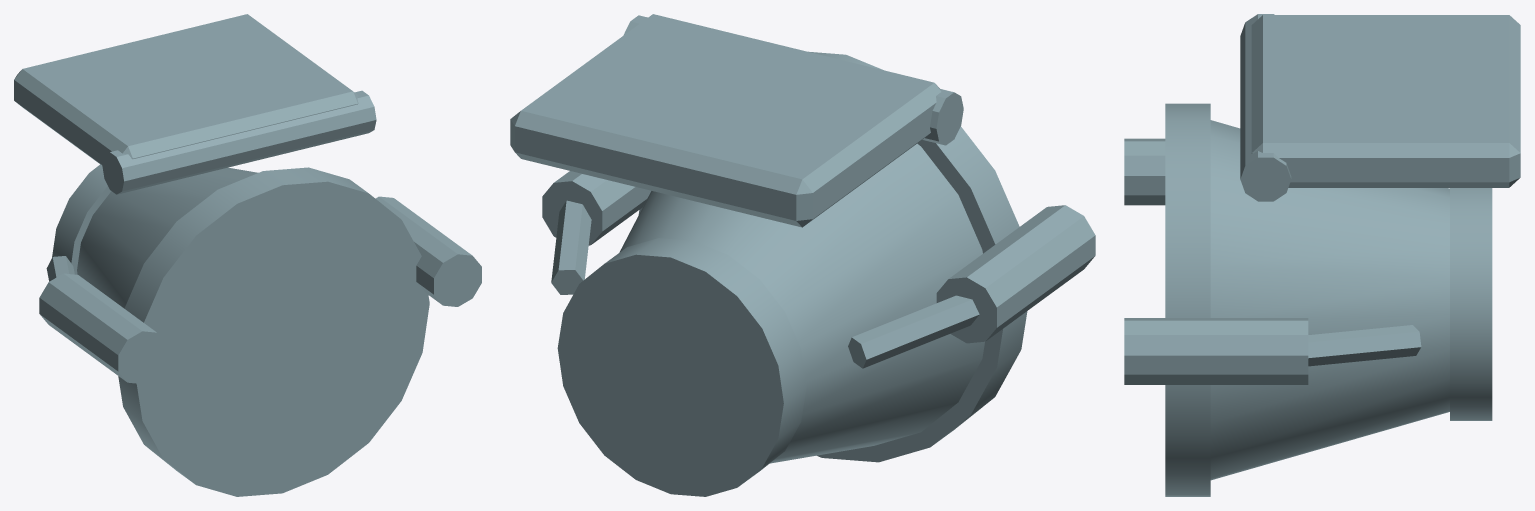
The model's file is wj_nozzle.glb.
3 renders of one model, left to right at view 1: azimuth 30°, elevation 25°; view 2: azimuth 150°, elevation 25°; view 3: azimuth 270°, elevation 25°, orthographic. The views are drawn at different scales.
Visible parts, largest first — view 1: wj_nozzle; view 2: wj_nozzle; view 3: wj_nozzle.
Boxes of the visible parts, x1,y1,x2,y2 form: wj_nozzle: (14,14,481,496); wj_nozzle: (510,14,1095,496); wj_nozzle: (1124,14,1520,496).
Bounding box in the file's own units: 0.3457 × 0.3125 × 0.28.
